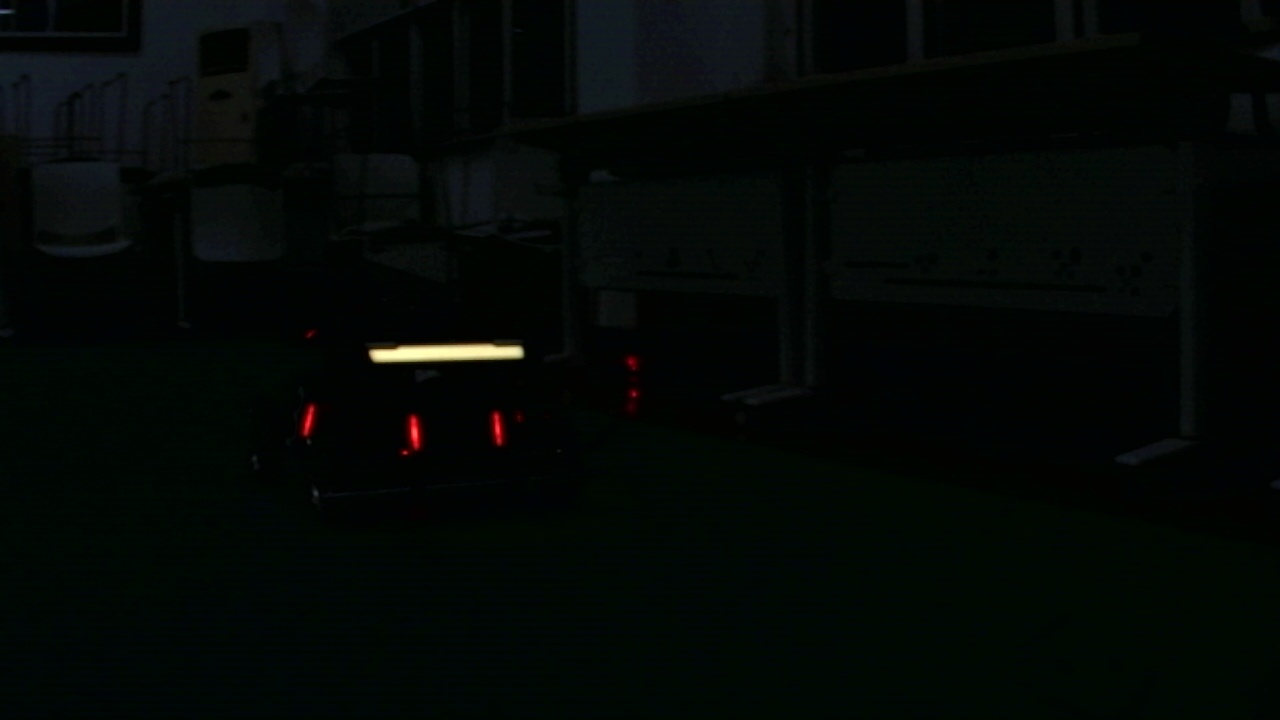lamp: (299, 400, 319, 440), (489, 409, 504, 449), (407, 411, 422, 444)
pair1: (409, 414, 507, 447)
